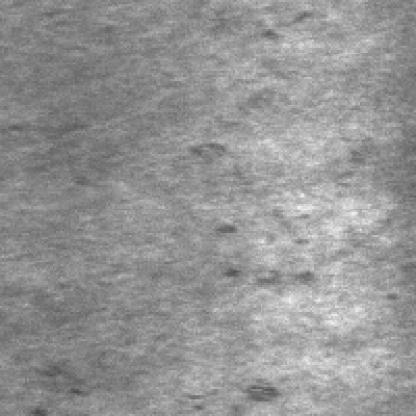rolled-in_scale: (185, 137, 310, 281)
